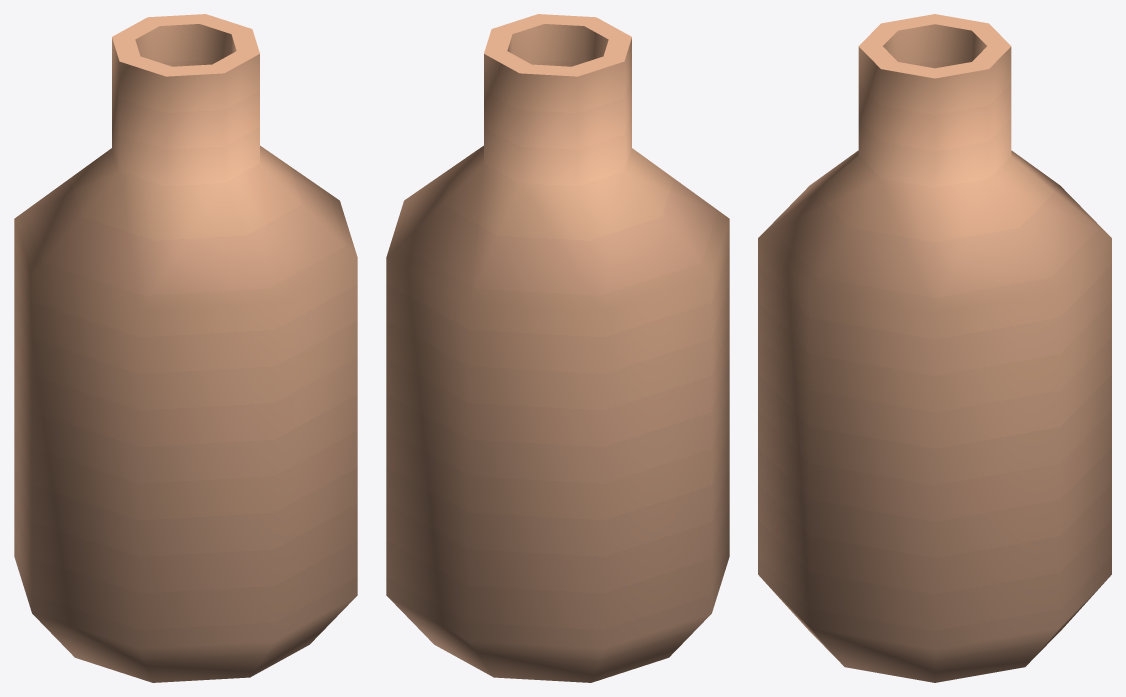
File: Jug.obj
3 views of the same model, side by side, from view 1: azimuth 30°, elevation 25°; view 2: azimuth 150°, elevation 25°; view 3: azimuth 270°, elevation 25° (orthographic).
Parts seen in each view (by area): view 1: Handle1; view 2: Handle1; view 3: Handle1.
Part boxes in pixels (left/top/right/bottom): Handle1: left=14, top=14, right=357, bottom=682; Handle1: left=386, top=14, right=729, bottom=682; Handle1: left=758, top=14, right=1111, bottom=682.
Size of the model in its own units: 1.38 by 2.5 by 1.38.
1 material, 1 textured.
